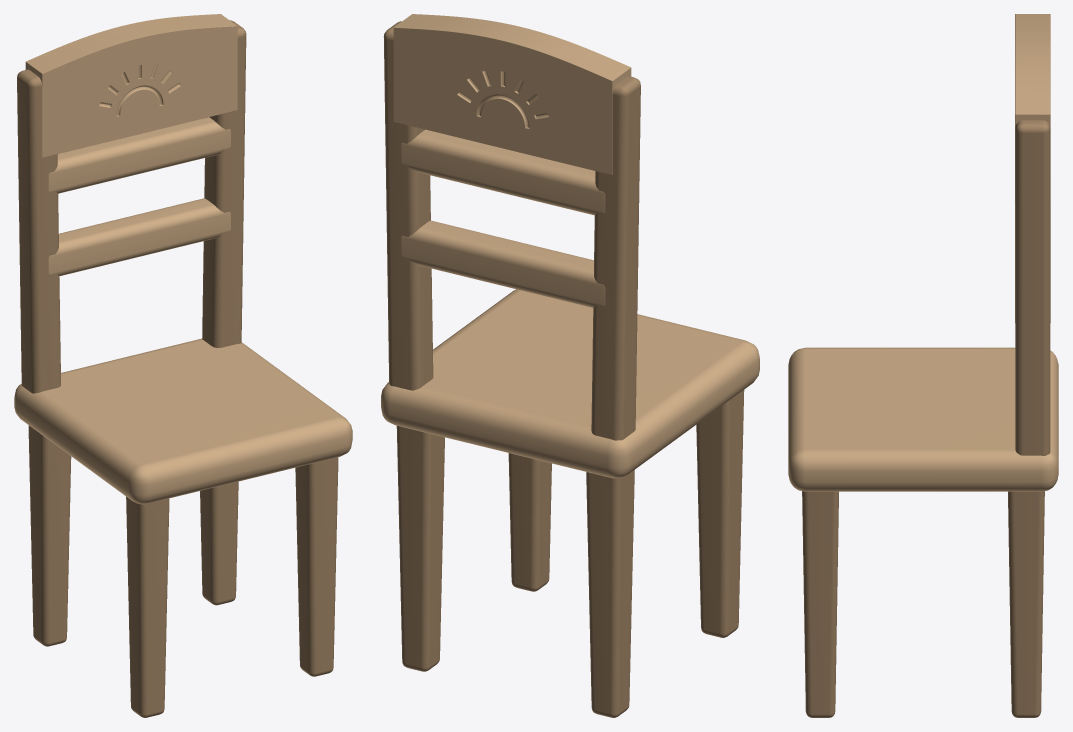
File: courtyard-chair.glb
The picture shows the model from 3 angles, left to right: view 1: azimuth 30°, elevation 25°; view 2: azimuth 150°, elevation 25°; view 3: azimuth 270°, elevation 25°; orthographic projection. The views are drawn at different scales.
Visible parts, largest first — view 1: Chair seat, Chair curved back slat.002, Chair back posts, Chair back posts.001, Chair legs, Chair legs.002, Chair legs.001, Chair curved back slat, Chair curved back slat.001, Chair legs.003; view 2: Chair seat, Chair curved back slat.002, Chair back posts, Chair back posts.001, Chair legs.001, Chair legs.003, Chair legs, Chair curved back slat, Chair curved back slat.001, Chair legs.002; view 3: Chair seat, Chair back posts.001, Chair legs.002, Chair legs.003, Chair curved back slat.002.
Part boxes in pixels (x1,y1,x2,y2): Chair seat: (14,338,352,504); Chair curved back slat.002: (25,14,237,157); Chair back posts: (17,69,60,393); Chair back posts.001: (202,20,246,347); Chair legs: (126,496,169,717); Chair legs.002: (295,457,338,676); Chair legs.001: (28,425,71,646); Chair curved back slat: (48,198,230,276); Chair curved back slat.001: (48,117,230,193); Chair legs.003: (200,481,238,605); Chair seat: (381,289,759,478); Chair curved back slat.002: (393,14,631,174); Chair back posts: (591,76,640,440); Chair back posts.001: (383,21,433,390); Chair legs.001: (586,470,634,717); Chair legs.003: (396,426,444,671); Chair legs: (696,390,744,637); Chair curved back slat: (401,220,605,307); Chair curved back slat.001: (401,129,605,215); Chair legs.002: (508,453,551,591); Chair seat: (788,347,1058,491); Chair back posts.001: (1015,120,1050,455); Chair legs.002: (802,491,838,717); Chair legs.003: (1008,491,1044,717); Chair curved back slat.002: (1015,14,1050,202).
Size of the model in its own units: 0.42 by 1.06 by 0.42.
